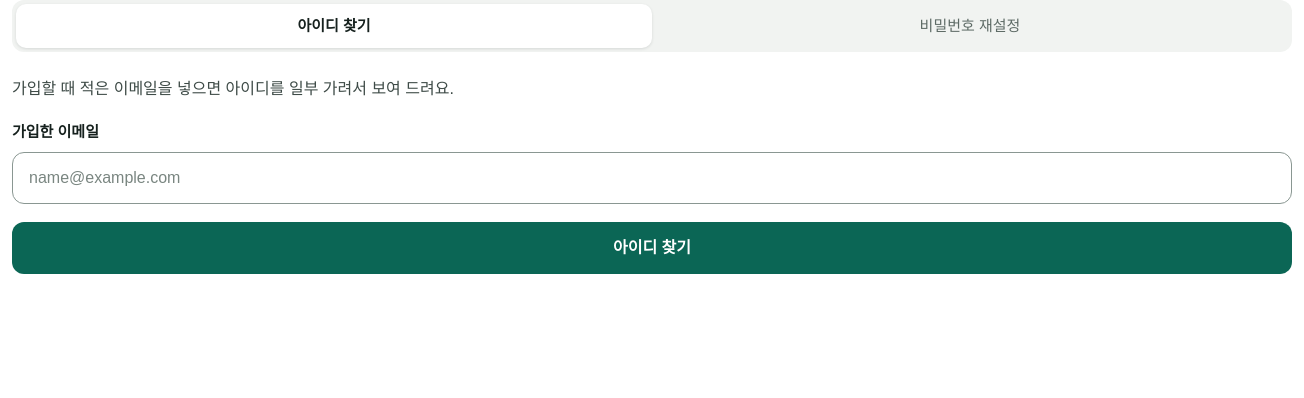
Test case: AccountRecoveryForm — 아이디 찾기 (이메일 → 화면에 바로) › TEST-FIND-UI-002: 없는 이메일이면 오류와 회원가입 링크를 보여 준다 (시안 ⑨-A)
In the field labelled "가입한 이메일": (652, 178) 29,166 -> 1275,190, type "wrong@example.com"
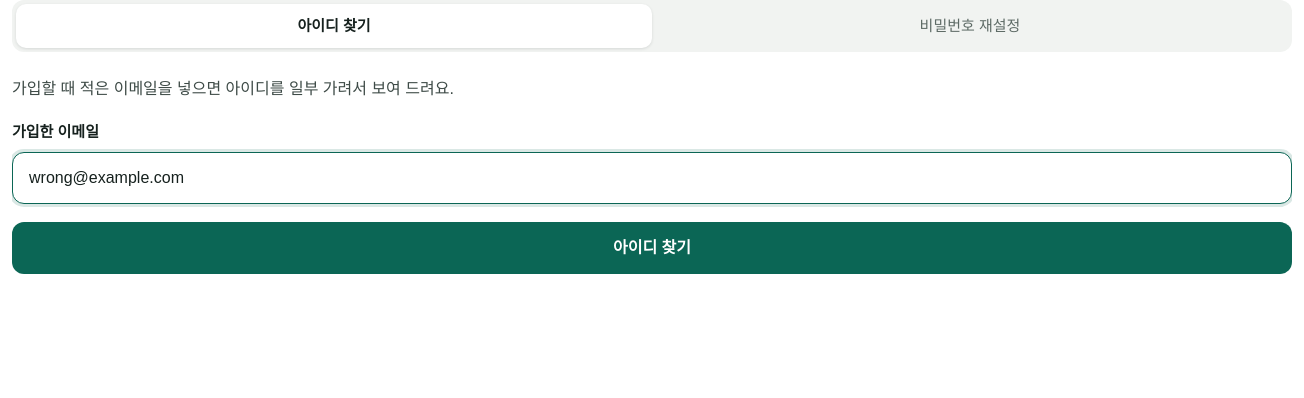
Click the button "아이디 찾기": (652, 248) 12,222 -> 1292,274
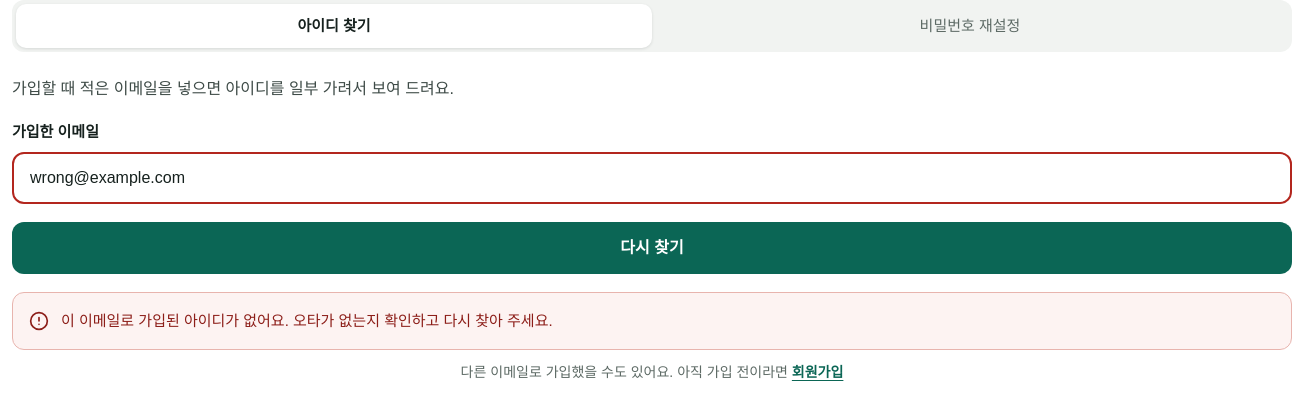
Expected: the message shows "이 이메일로 가입된 아이디가 없어요.", 61,312 -> 553,329
Expected: the button "다시 찾기" is shown, 12,222 -> 1292,274
